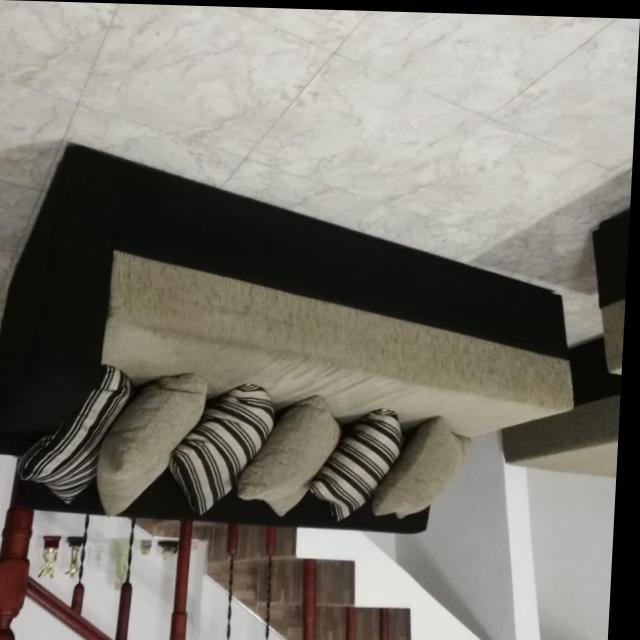Sofa: (0, 144, 587, 536)
